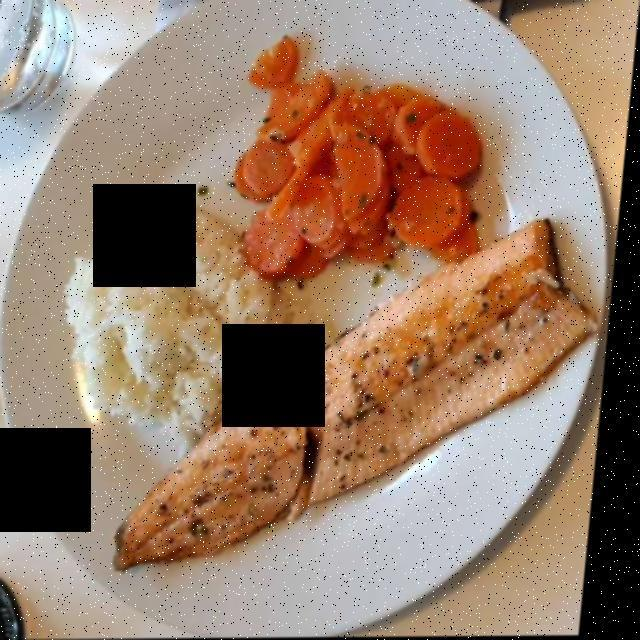carrots: (239, 40, 482, 280)
fish: (127, 237, 586, 574)
rice: (69, 205, 297, 430)
